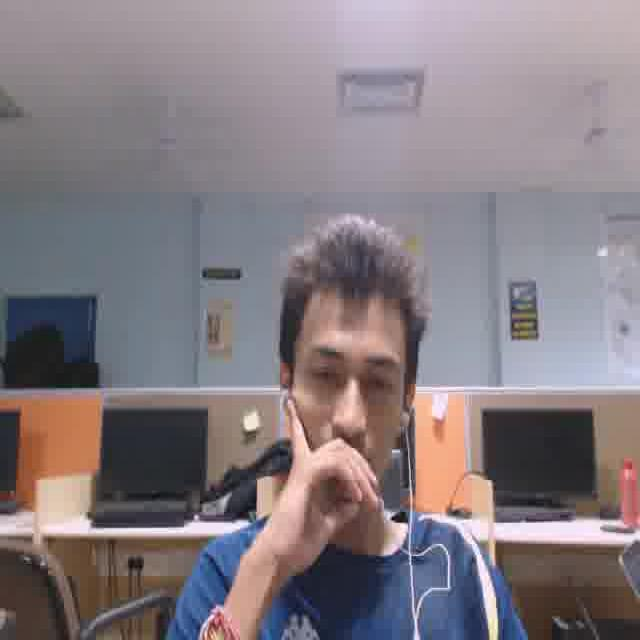Frustration: (290, 298, 399, 486)
